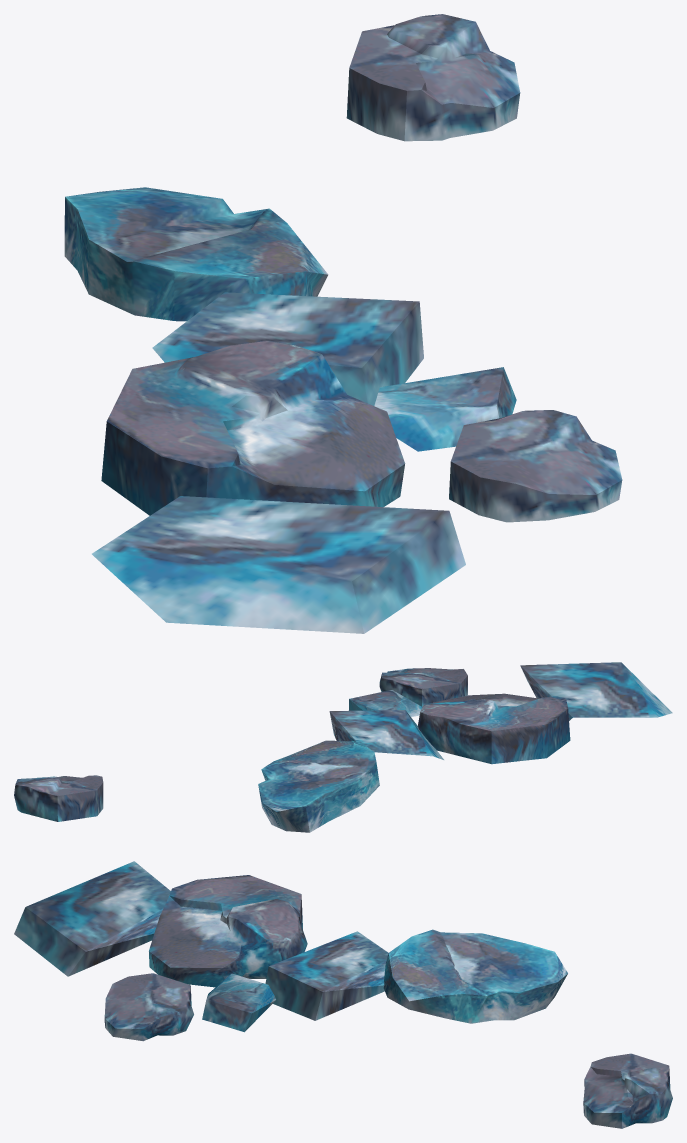
File: 5013_Item_shitou_2.FBX
3 views of the same model, one above another, from view 1: azimuth 30°, elevation 25°; view 2: azimuth 150°, elevation 25°; view 3: azimuth 270°, elevation 25° (orthographic). The views are drawn at different scales.
Parts seen in each view (by area): view 1: 5013_Item_shitou_2; view 2: 5013_Item_shitou_2; view 3: 5013_Item_shitou_2.
Boxes of the visible parts, x1=… form: 5013_Item_shitou_2: x1=64, y1=14, x2=622, y2=633; 5013_Item_shitou_2: x1=14, y1=662, x2=672, y2=832; 5013_Item_shitou_2: x1=14, y1=861, x2=672, y2=1128.
Size of the model in its own units: 934 by 103 by 1093.
